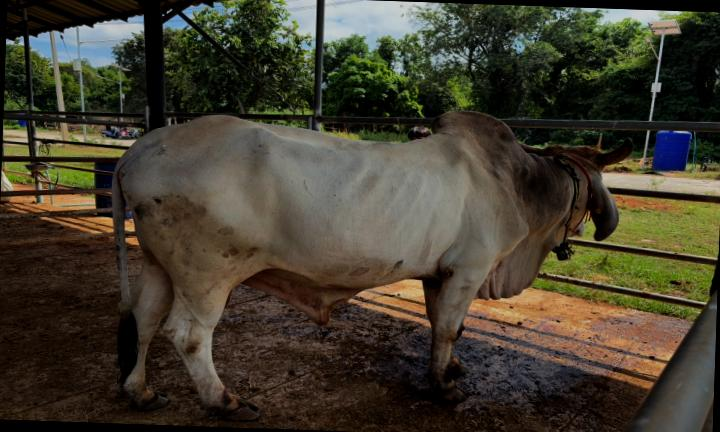Brahman: (113, 111, 633, 420)
